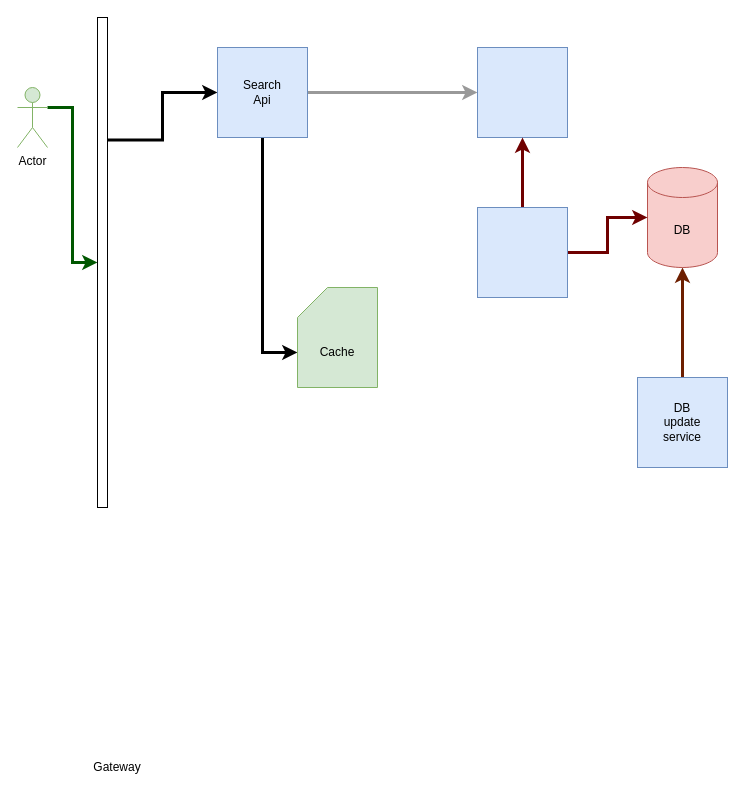
Image size: 745x795. Some labels were removed from this diagram. Each missing label, with the centre of its shape:
Lucene indexer: the point at 522,252
Lucene search engine: the point at 522,92
